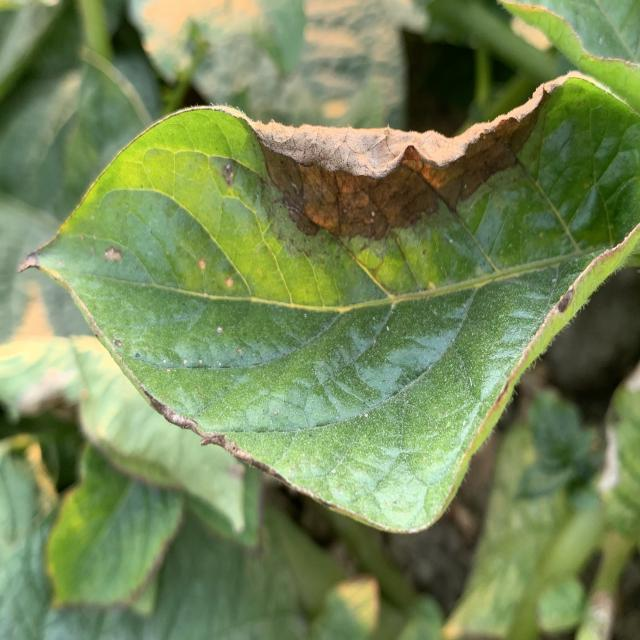lateblight: (250, 80, 562, 240)
